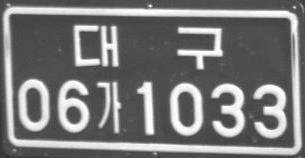0: (169, 81, 204, 136), (17, 78, 50, 132)
1: (132, 80, 162, 135)
3: (210, 81, 245, 137), (253, 83, 287, 138)
6: (56, 79, 90, 133)
가: (96, 81, 122, 133)
대구_D: (73, 23, 223, 70)
